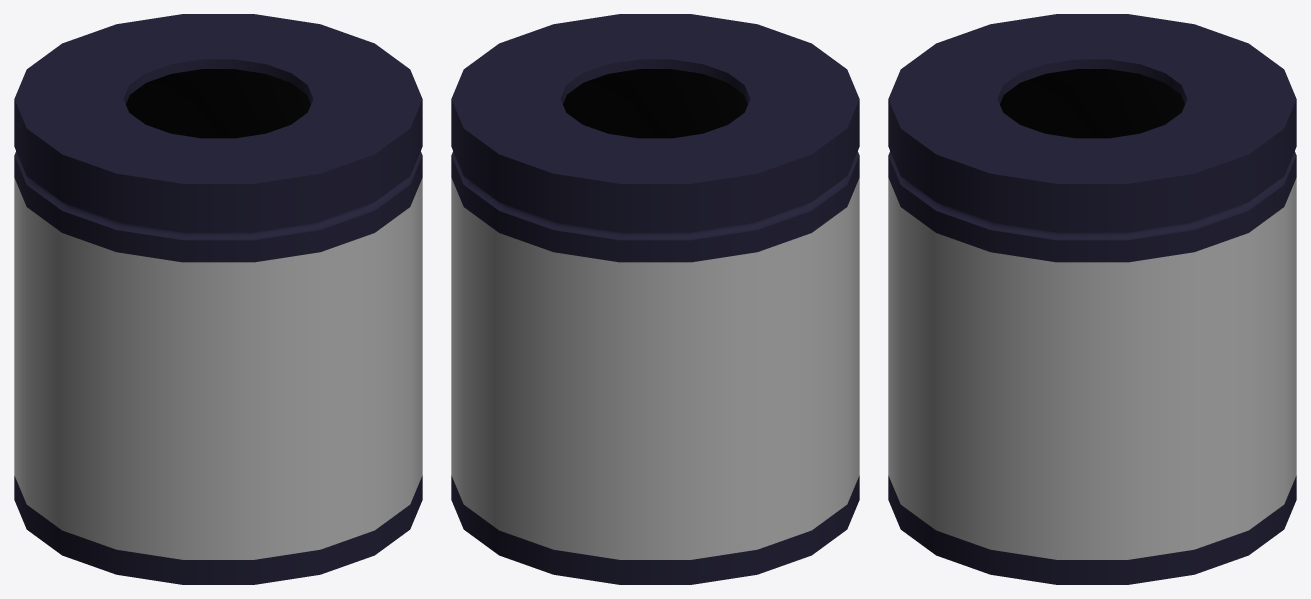
Rendered from MP_Ass2_Bin.fbx.
3 views of the same model, side by side, from view 1: azimuth 30°, elevation 25°; view 2: azimuth 150°, elevation 25°; view 3: azimuth 270°, elevation 25° (orthographic).
Visible parts, largest first — view 1: Bin; view 2: Bin; view 3: Bin.
Boxes of the visible parts, x1,y1,x2,y2 form: Bin: [14, 14, 422, 584]; Bin: [451, 14, 859, 584]; Bin: [888, 14, 1296, 584].
Size of the model in its own units: 202 by 222 by 205.
